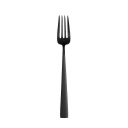fork: (46, 9, 81, 124)
